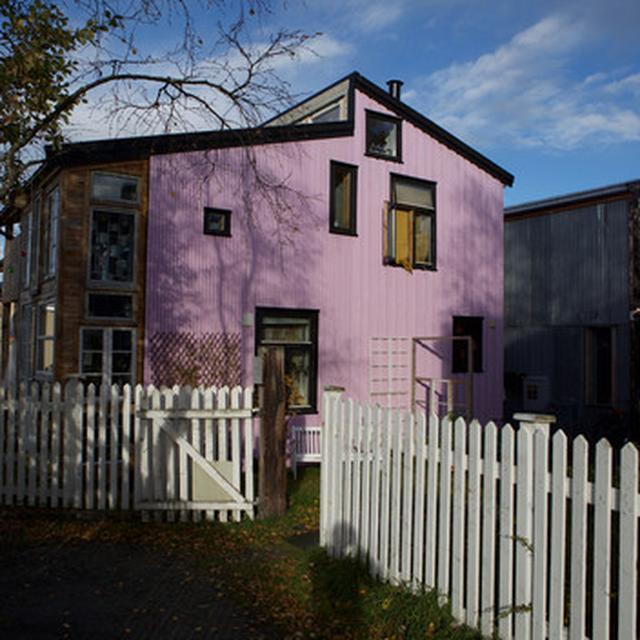building: (19, 64, 510, 491)
